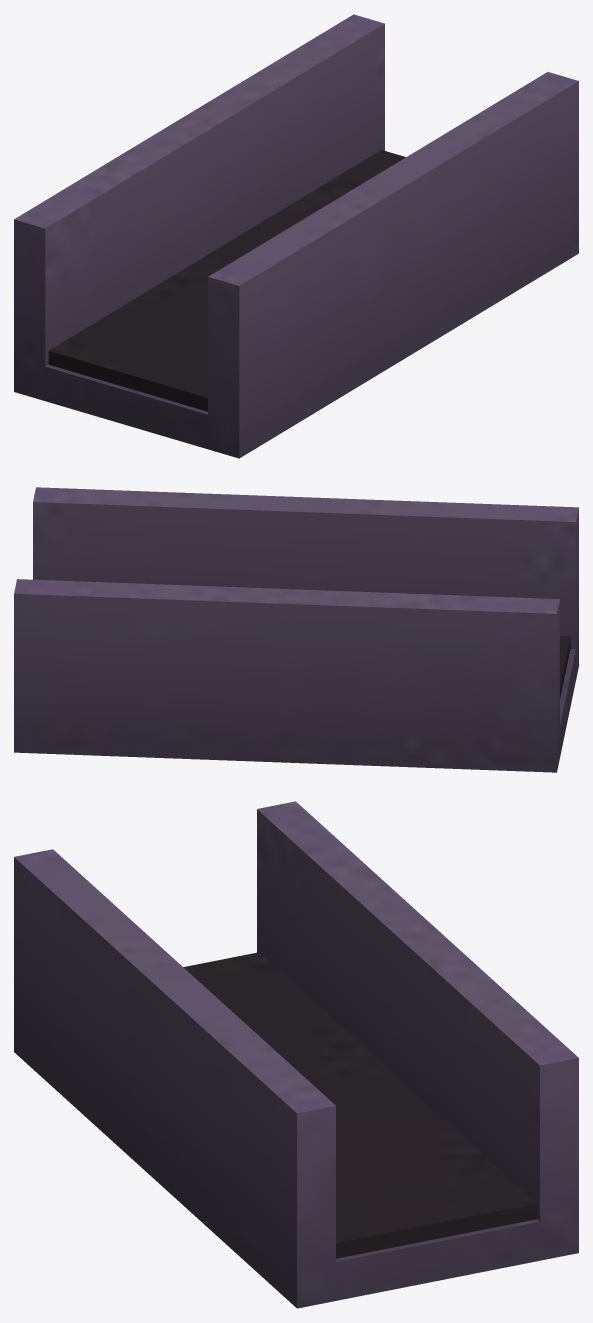
File: tungsten-plate.glb
The picture shows the model from 3 angles, top to bottom: view 1: azimuth 30°, elevation 25°; view 2: azimuth 150°, elevation 25°; view 3: azimuth 270°, elevation 25°; orthographic projection. The views are drawn at different scales.
Parts seen in each view (by area): view 1: tungsten-plate; view 2: tungsten-plate; view 3: tungsten-plate.
Part boxes in pixels (box(x1,y1,x2,y2)): tungsten-plate: box(14, 14, 578, 458); tungsten-plate: box(14, 487, 578, 772); tungsten-plate: box(14, 801, 578, 1308).
Bounding box in the file's own units: 0.3087 × 0.09 × 0.2362.
Materials: 1 (1 with a texture image).
